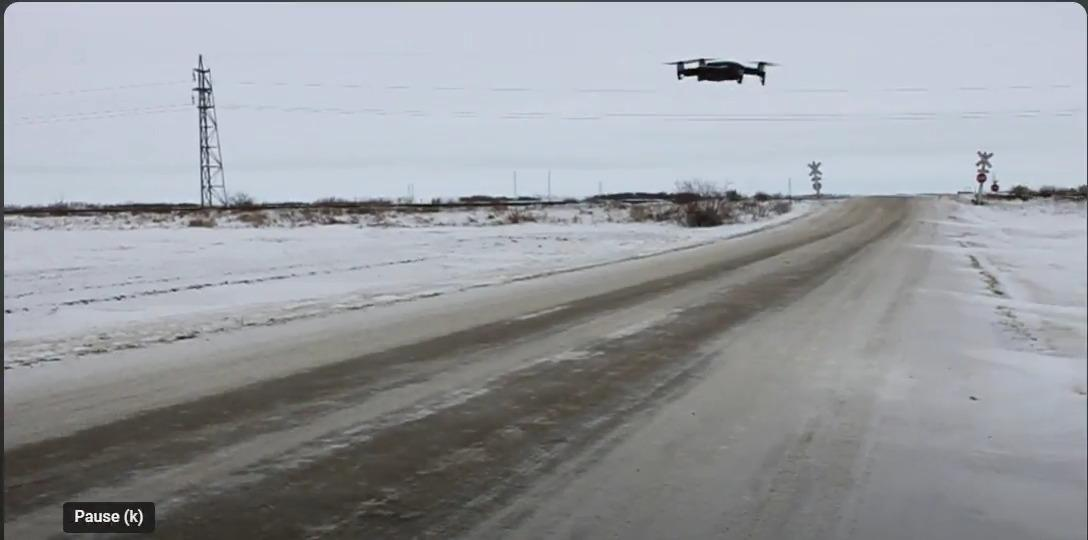dr: (644, 28, 798, 111)
